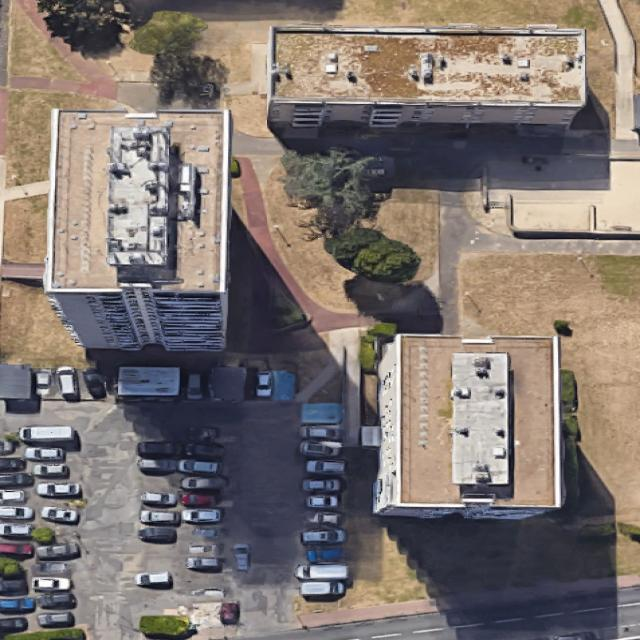immeuble: (42, 107, 229, 351), (374, 333, 570, 521), (267, 24, 585, 128)
